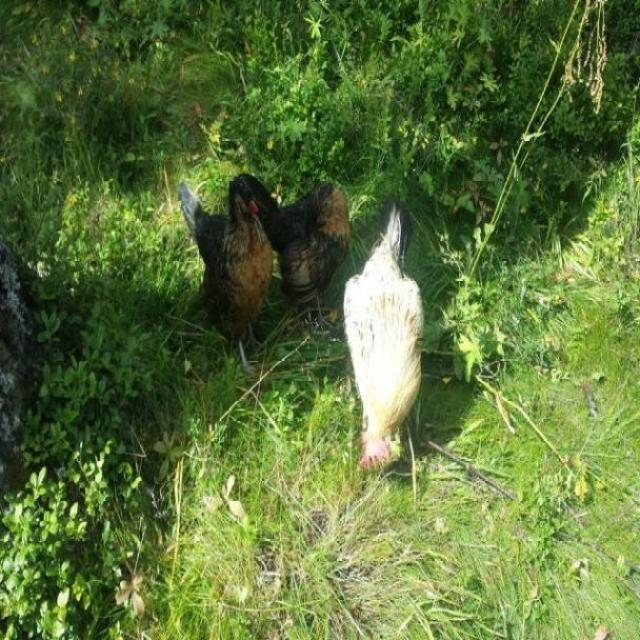Chicken: (345, 205, 430, 475), (174, 168, 277, 380), (244, 171, 351, 330)
